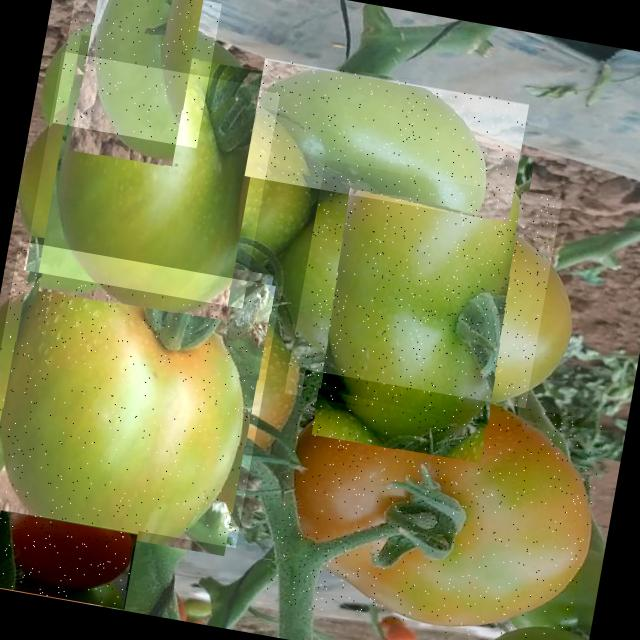Ripe Tomato: (0, 506, 138, 609)
Unripe Tomato: (264, 369, 607, 640), (0, 240, 281, 547), (284, 156, 562, 434), (23, 51, 280, 308), (244, 55, 529, 222), (52, 0, 221, 148)
